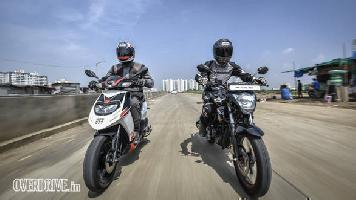helmet: (112, 37, 137, 62), (210, 36, 235, 61)
